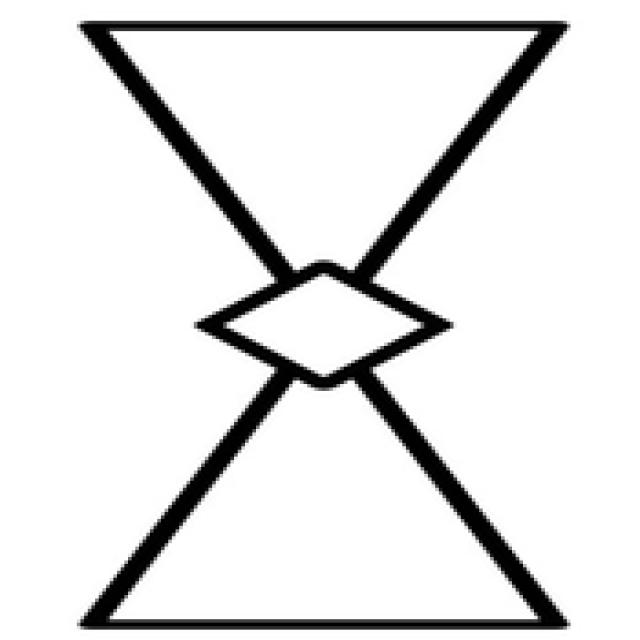Plug Valve: (81, 17, 568, 622)
